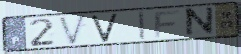2: (28, 17, 58, 48)
F: (153, 9, 183, 39)
I: (137, 10, 147, 41)
N: (184, 5, 215, 39)
V: (57, 13, 88, 47), (90, 12, 119, 44)
